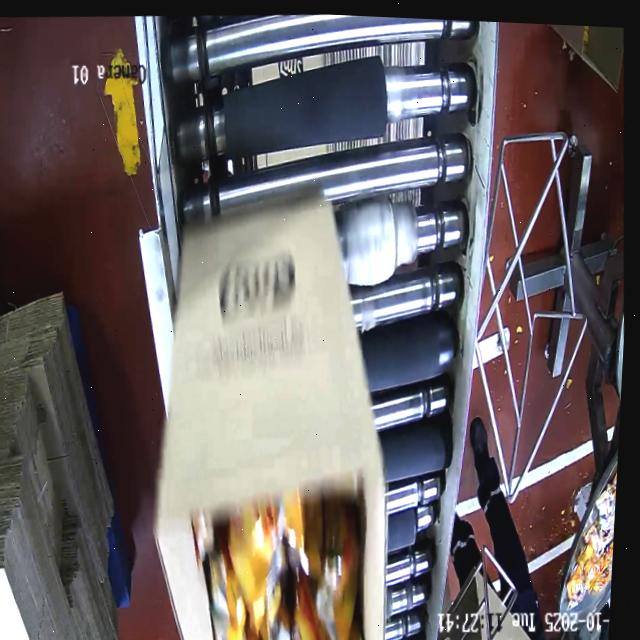FRENCH_CHEESE: (195, 483, 380, 640)
